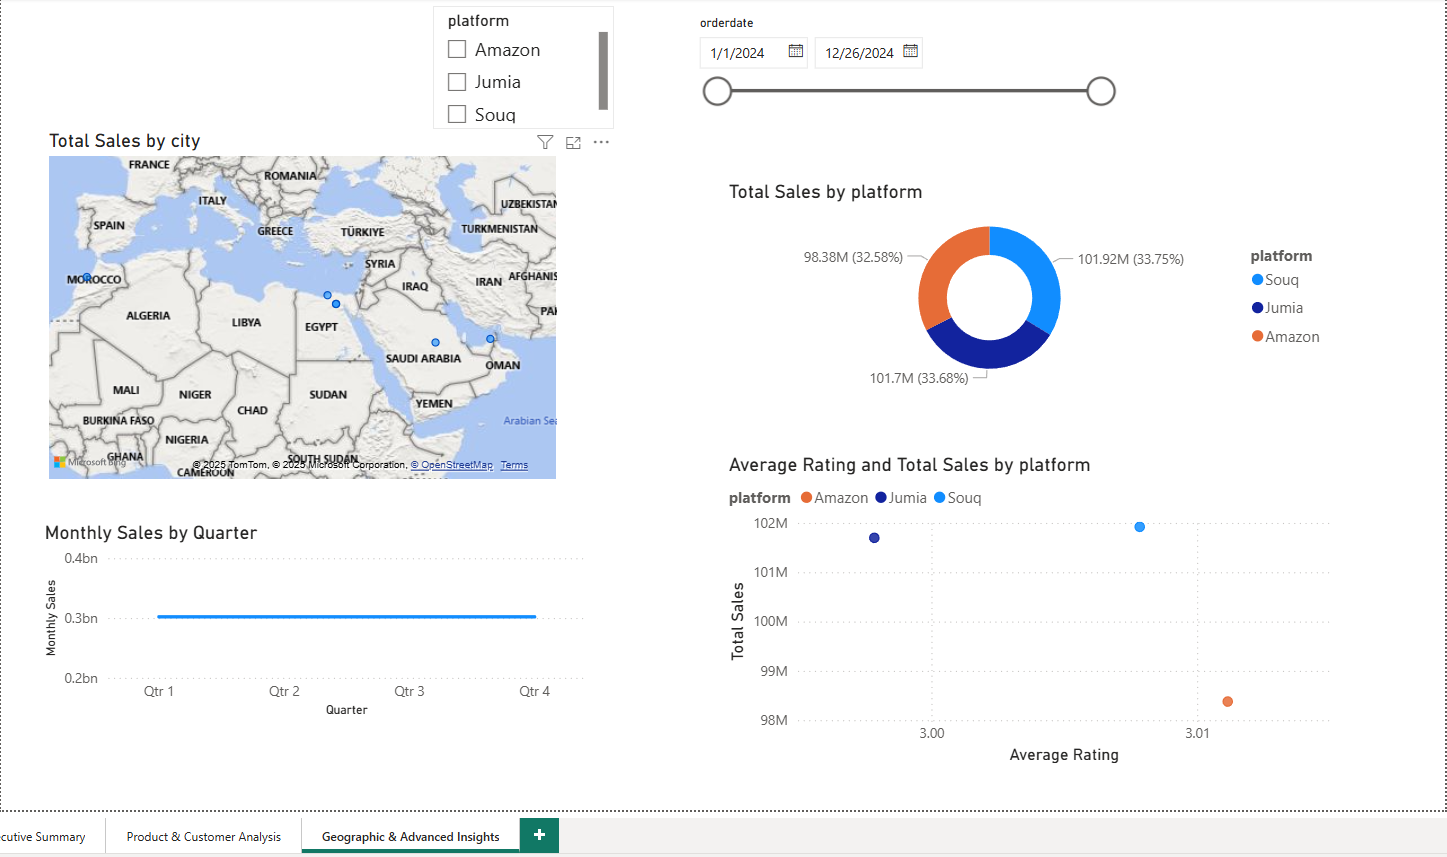

The page's visual inventory and layout, read from the dashboard file:
{"tool":"powerbi","page":{"name":"Geographic & Advanced Insights","canvas":[1280,720],"ordinal":2},"visuals":[{"type":"map","fields":{"Category":["DimCustomerLocation.city"],"X":["FactSales.Total Sales"]},"box":[36.9,115.9,460.4,315],"z":0},{"type":"donutChart","fields":{"Category":["DimPlatform.platform"],"Y":["FactSales.Total Sales"]},"box":[640.5,161.2,545.7,189.6],"z":1000},{"type":"lineChart","fields":{"Category":["DimDate.orderdate.Variation.Date Hierarchy.Year","DimDate.orderdate.Variation.Date Hierarchy.Quarter","DimDate.orderdate.Variation.Date Hierarchy.Month","DimDate.orderdate.Variation.Date Hierarchy.Day"],"Y":["FactSales.Monthly Sales"]},"box":[33.7,463.5,488.8,178],"z":2000},{"type":"scatterChart","fields":{"X":["FactSales.Average Rating"],"Y":["FactSales.Total Sales"],"Series":["DimPlatform.platform"]},"box":[640.5,403.5,555.2,280.2],"z":3000},{"type":"slicer","fields":{"Values":["DimDate.orderdate"]},"box":[606.8,10.5,389.8,103.2],"z":4000},{"type":"slicer","fields":{"Values":["DimPlatform.platform"]},"box":[383.5,7.4,160.1,108.5],"z":5000}]}

Visuals, with their boxes on the page's 1280x720 design canvas (x1, y1, x2, y2). These are canvas units, not pixel positions in the 1447x857 screenshot, which may show the page scaled, cropped or inside an application window:
map - DimCustomerLocation.city x FactSales.Total Sales: <region>37, 116, 497, 431</region>
donutChart - DimPlatform.platform x FactSales.Total Sales: <region>640, 161, 1186, 351</region>
lineChart - DimDate.orderdate.Variation.Date Hierarchy.Year x DimDate.orderdate.Variation.Date Hierarchy.Quarter: <region>34, 464, 522, 642</region>
scatterChart - FactSales.Average Rating x FactSales.Total Sales: <region>640, 404, 1196, 684</region>
slicer - DimDate.orderdate: <region>607, 10, 997, 114</region>
slicer - DimPlatform.platform: <region>384, 7, 544, 116</region>
